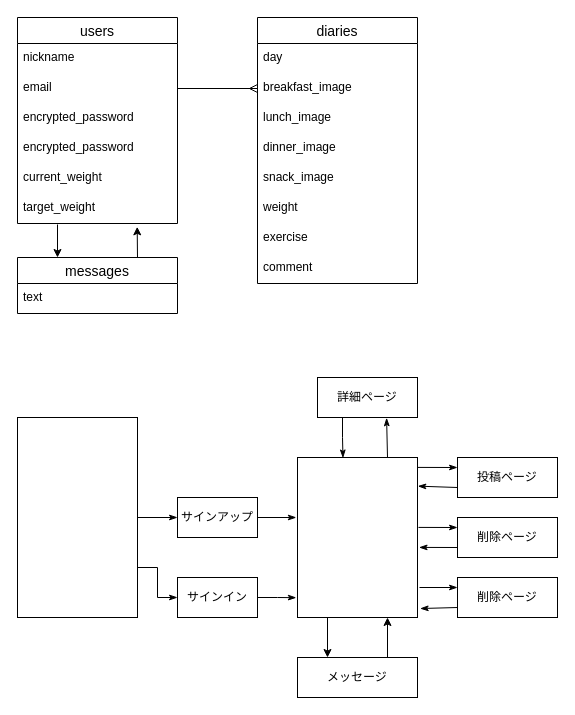
This 575x715 diagram has some shape labels left out. The centre of each missing label's shape, as x and y in pixels:
トップページ: the point at 77,517
ユーザーのマイページ: the point at 357,537
